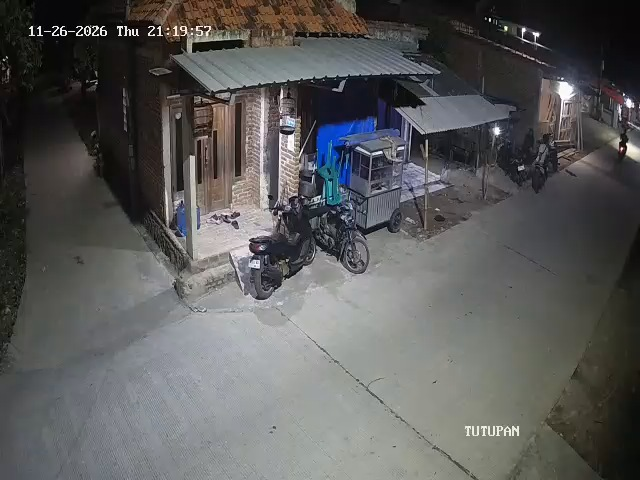Gerobak: (340, 133, 408, 232)
